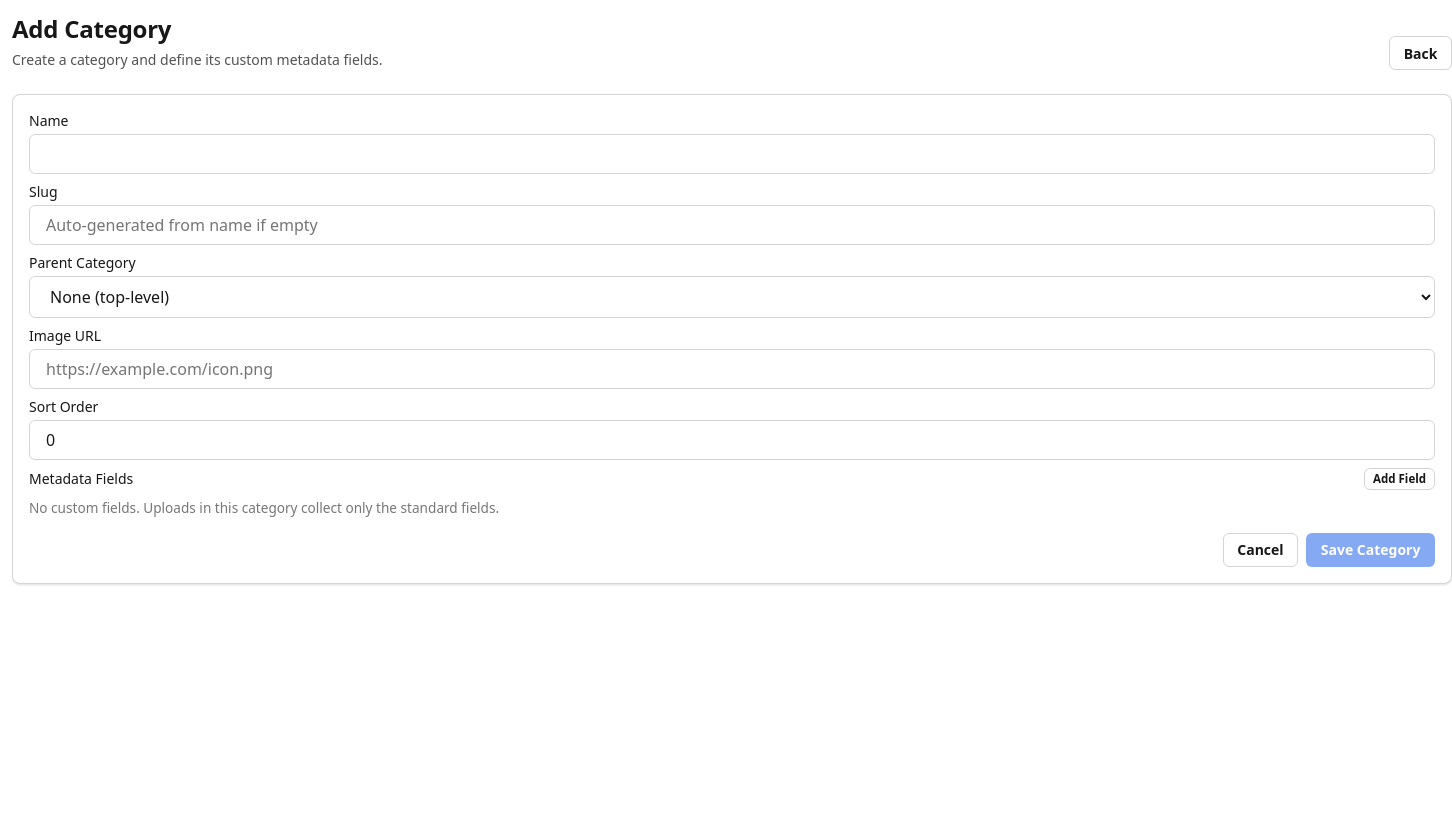
Test: AdminCategoryEditPage › creates a new category via POST
Type "Games" into the field labelled "Name" at (732, 154), box [29, 134, 1435, 174]
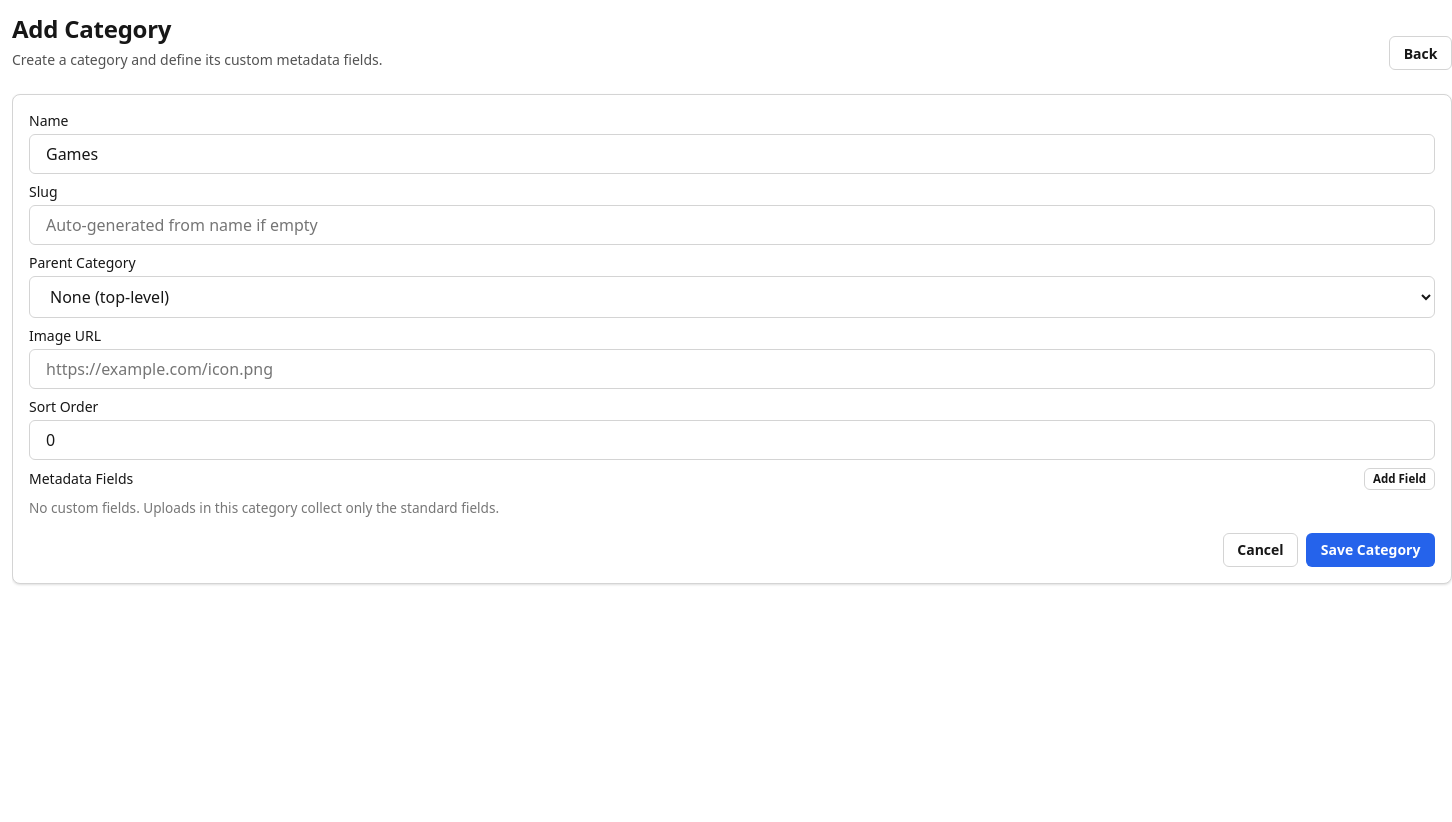
Click the button "Save Category" at (1371, 550), box [1306, 533, 1435, 567]
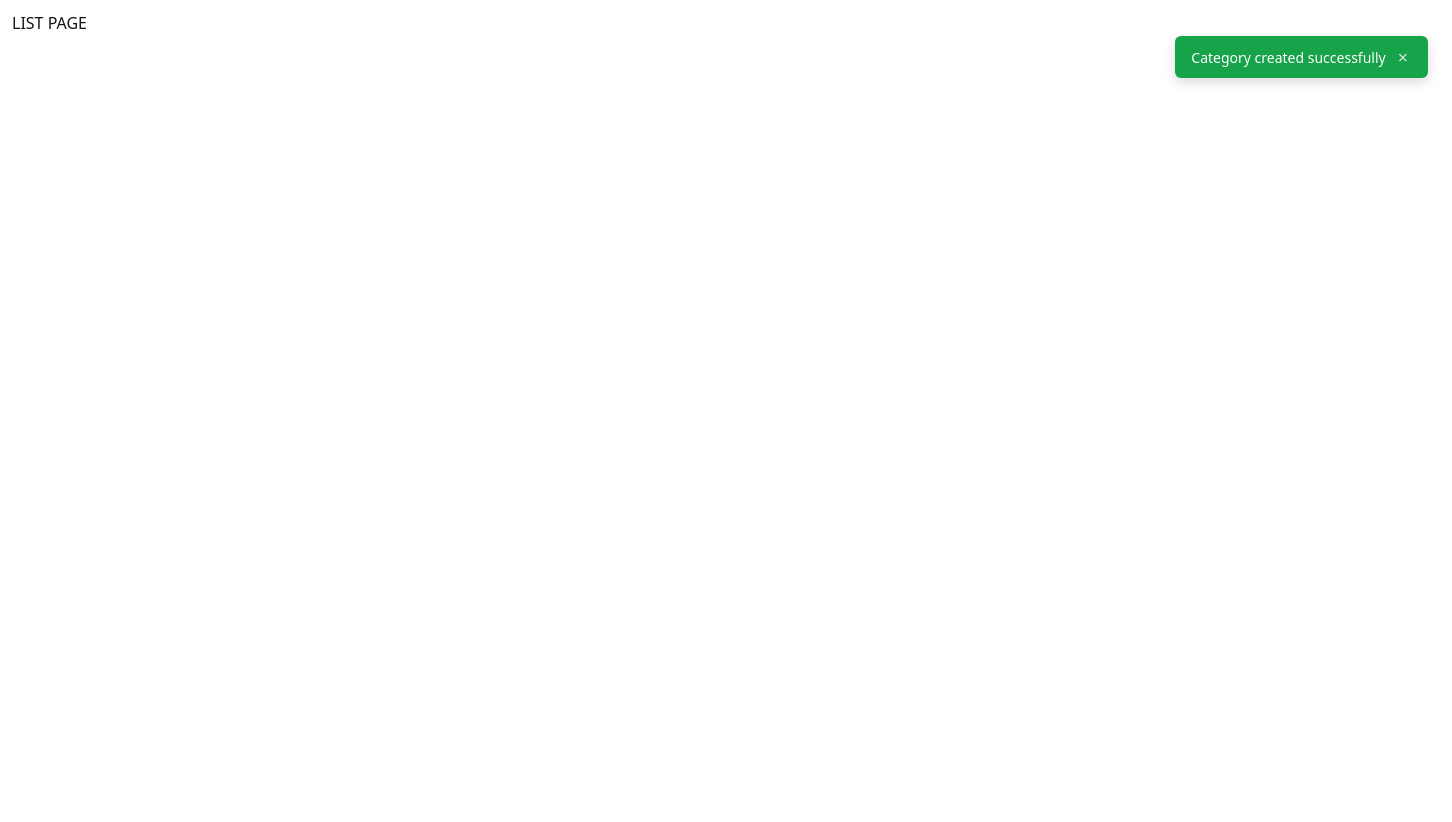
Result: the text "LIST PAGE" is shown at [12, 12, 87, 34]
